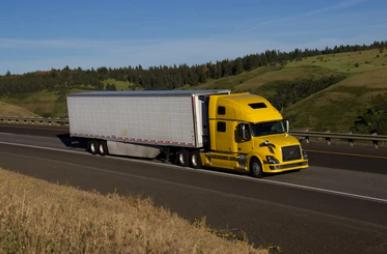vehicle: (66, 89, 309, 177)
